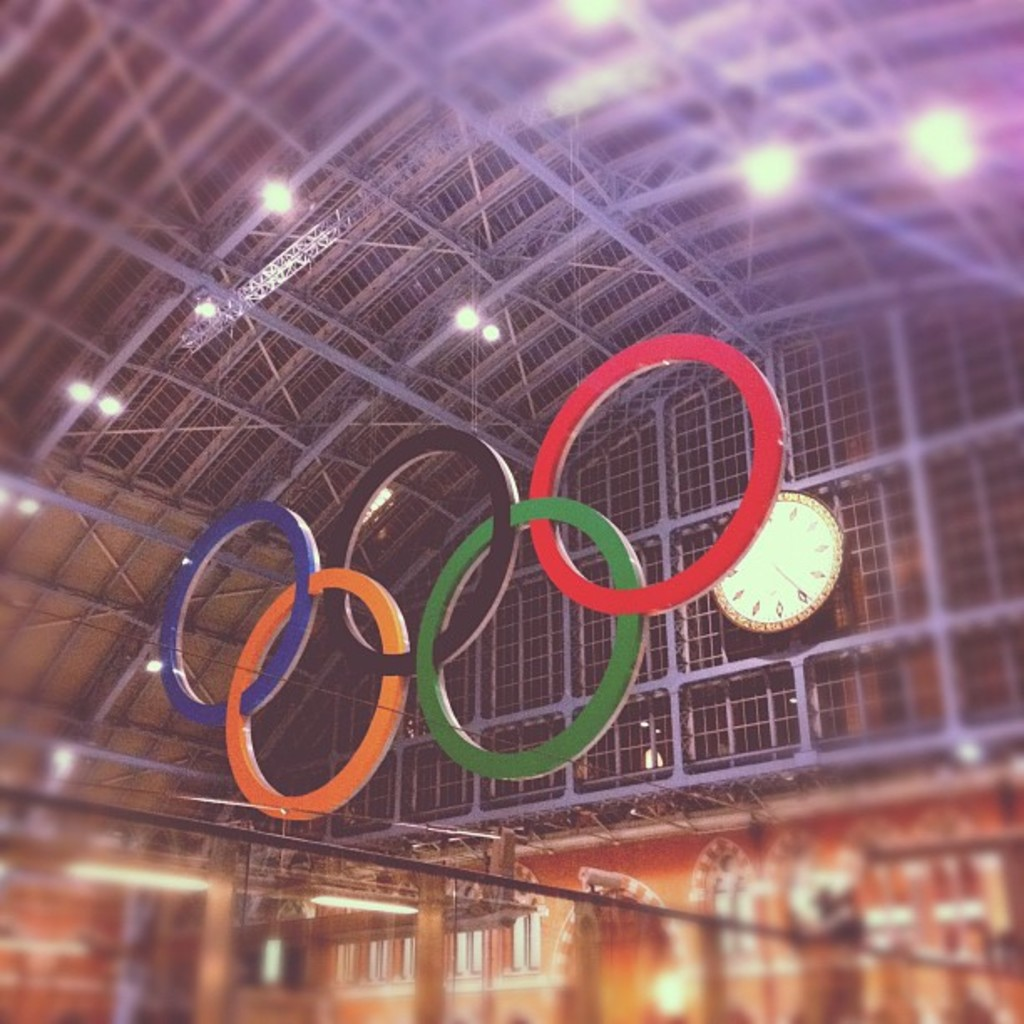watch: (706, 481, 858, 634)
